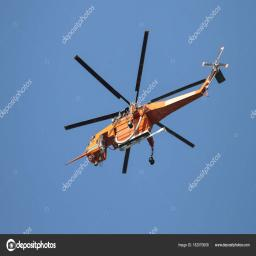helicopter: (60, 32, 230, 176)
